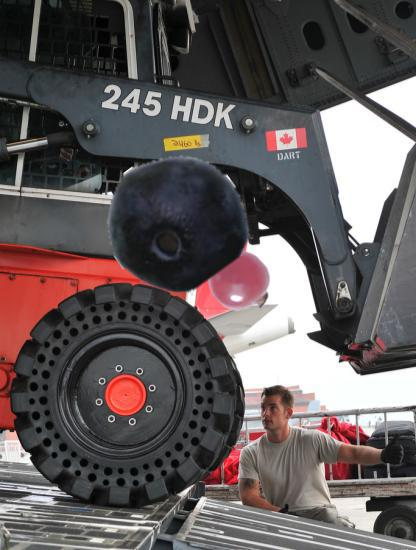Blueberry: (105, 152, 245, 292)
Redcurrant: (211, 253, 274, 316)
